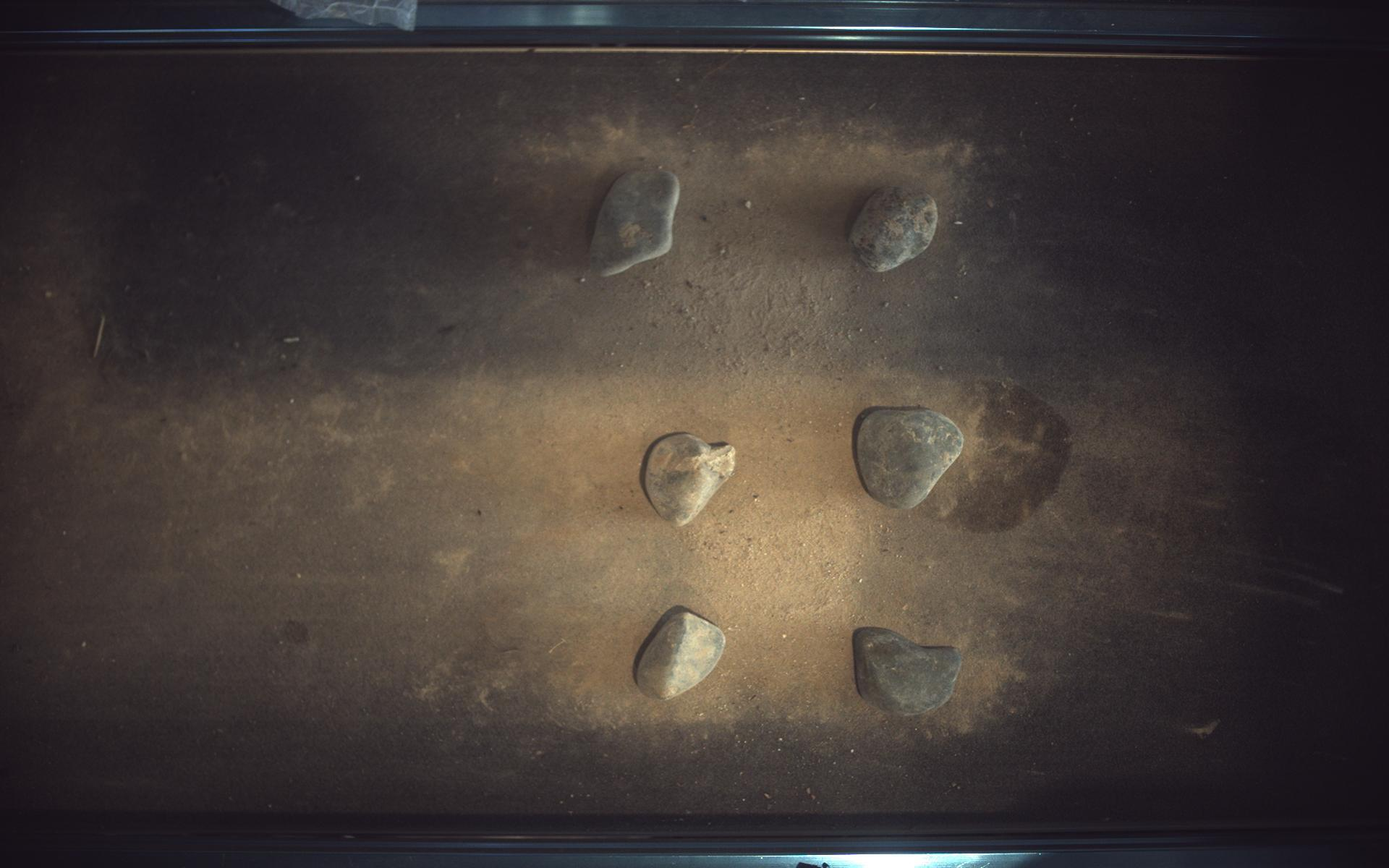stone: (858, 409, 966, 509), (854, 628, 964, 718), (591, 169, 681, 276), (645, 433, 736, 527), (637, 612, 726, 700), (851, 186, 940, 271)
